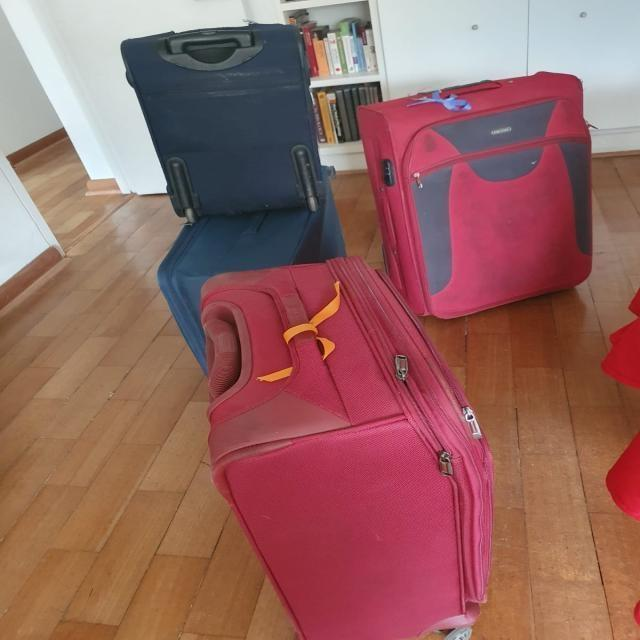Suitcase: (201, 252, 496, 640), (354, 71, 598, 313), (157, 166, 348, 381), (118, 26, 335, 212)
